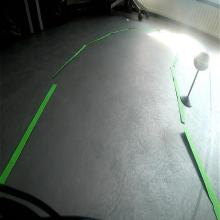left: (193, 51, 210, 70)
